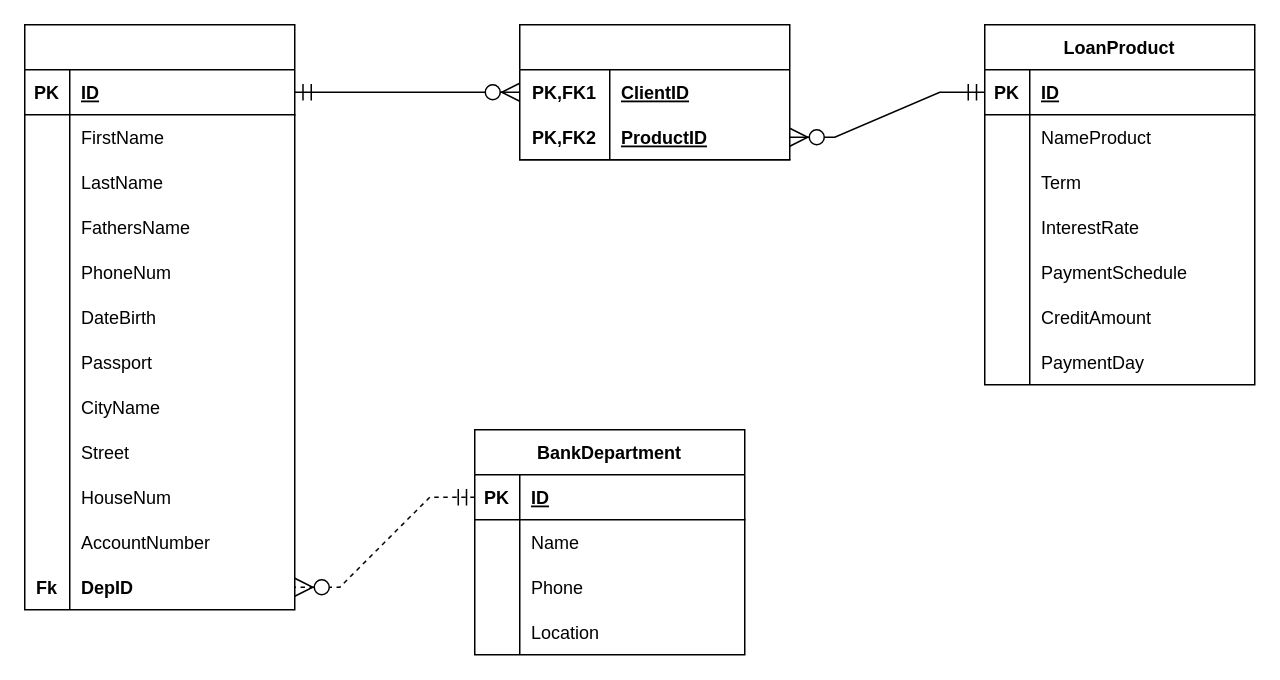
Image size: 1280x680. Some labels were removed from this diagram. Here are the shapes that lost their labels. From the top down, the box of each, then its label:
(518, 23, 790, 160): ClientLoanProduct
(23, 23, 295, 610): Client
